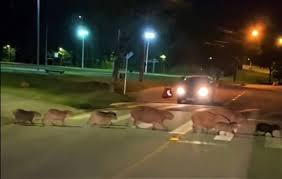capivara: (129, 106, 174, 130), (192, 110, 230, 134), (13, 108, 42, 127), (45, 109, 75, 127), (87, 111, 117, 129), (254, 122, 282, 139), (216, 121, 241, 136)
